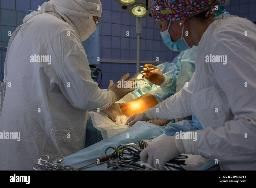scalpel: (138, 66, 164, 72)
